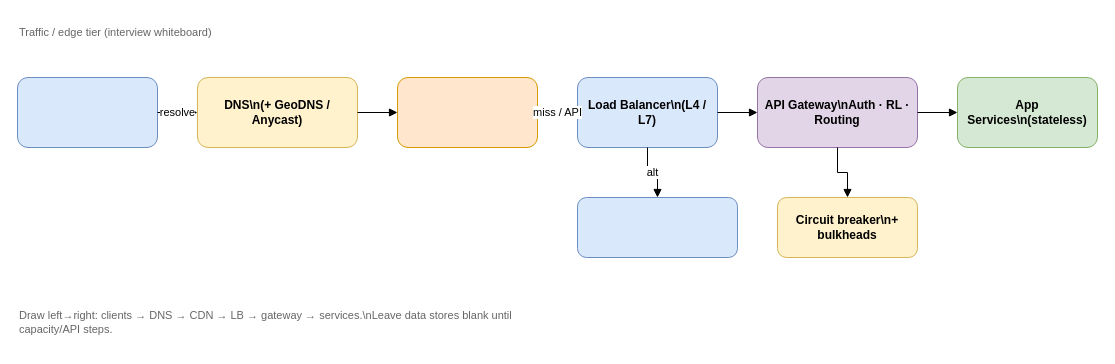
Image size: 1115x364. Some labels were removed from this diagram. Here are the shapes that lost their labels. From the top down, the box of each, then its label:
(16, 76, 158, 148): Clients\n(Web / Mobile)
(396, 76, 538, 148): CDN / Edge\ncache
(576, 196, 738, 258): Reverse Proxy\n(NGINX / Envoy)
